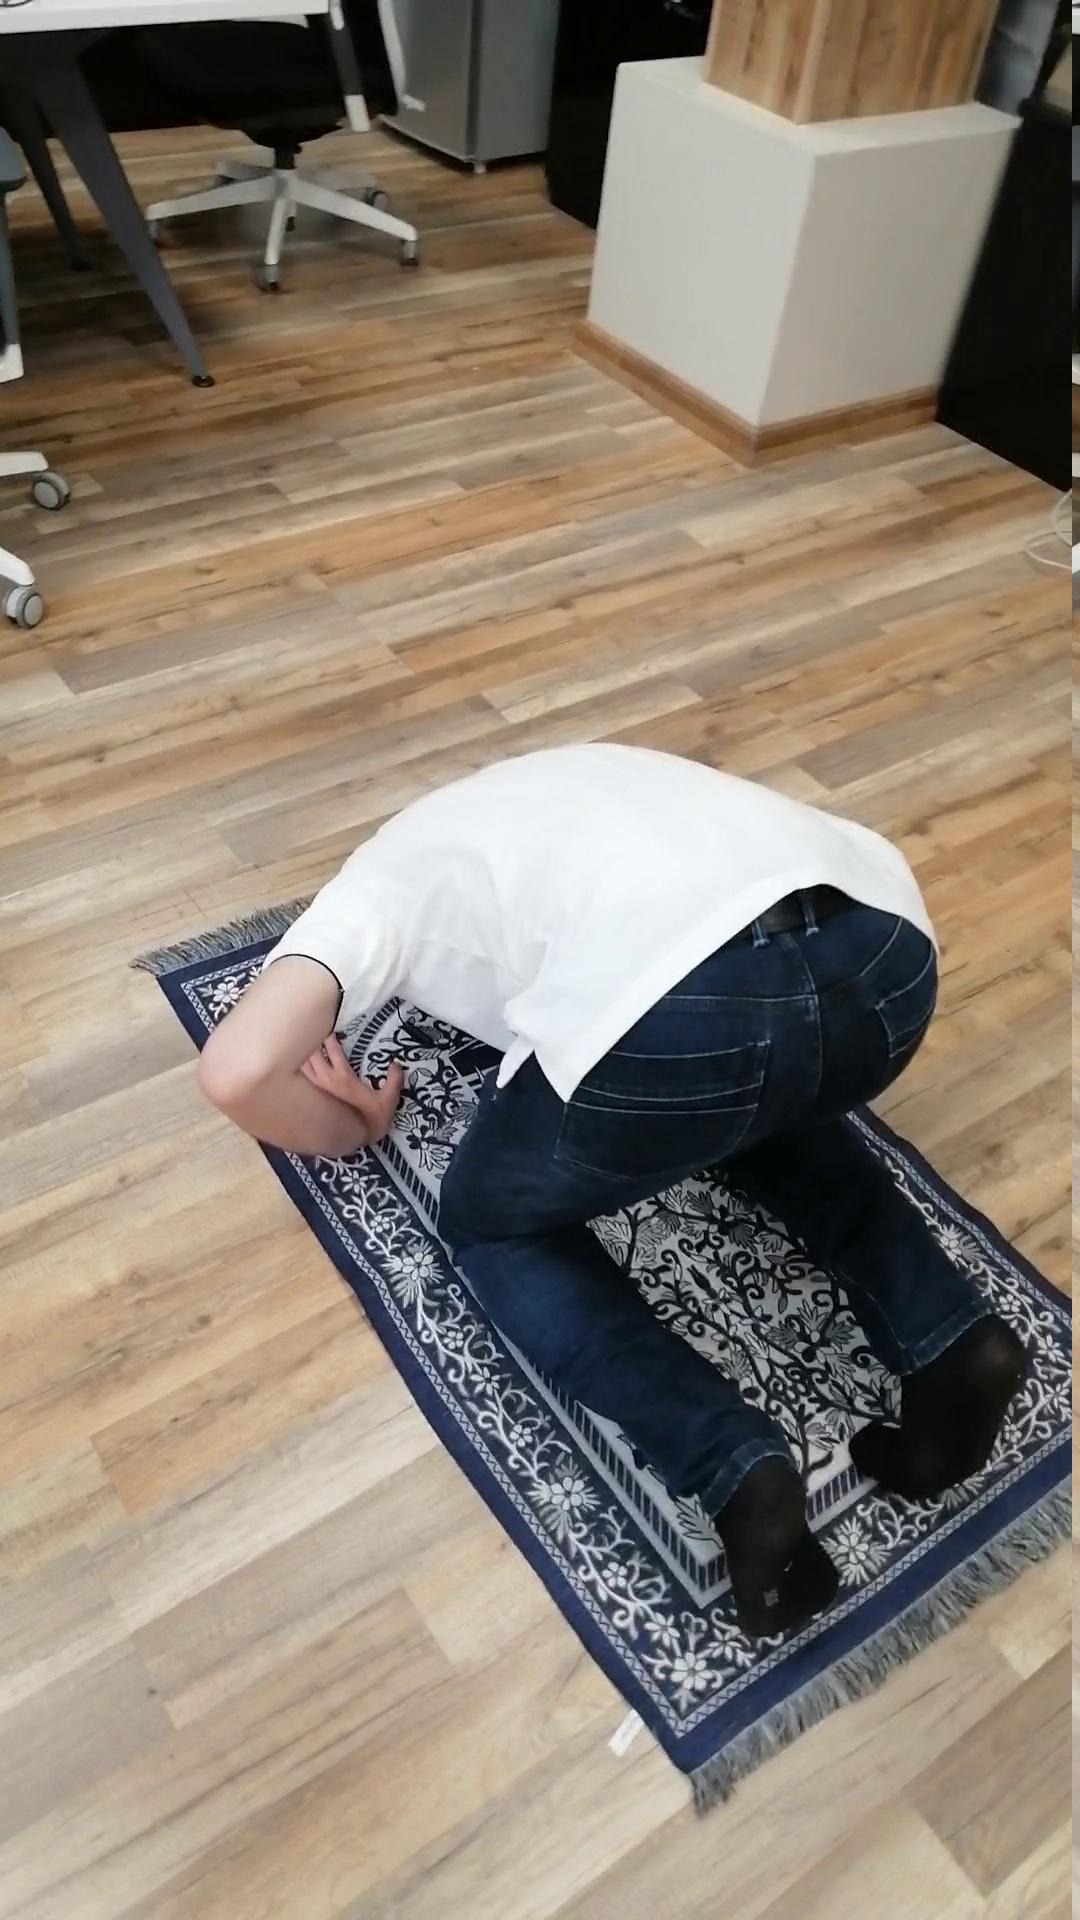sujud: (185, 735, 1035, 1648)
